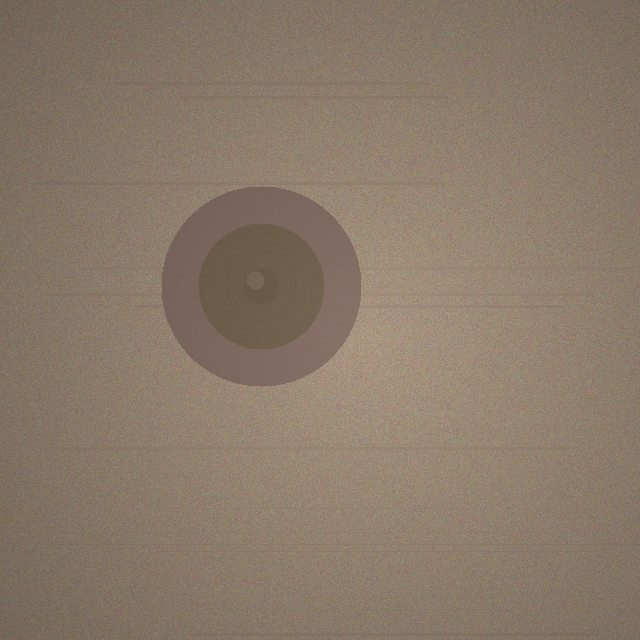good: (161, 186, 361, 386)
